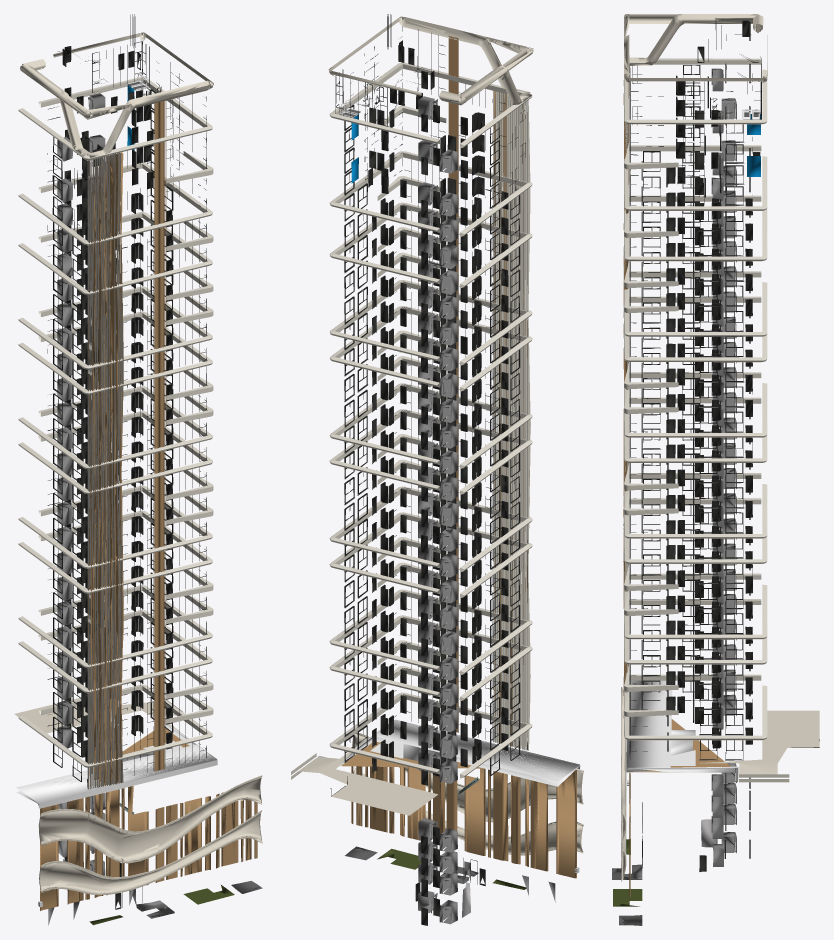
File: fachada-02.glb
3 renders of one model, left to right at view 1: azimuth 30°, elevation 25°; view 2: azimuth 150°, elevation 25°; view 3: azimuth 270°, elevation 25°, orthographic. The views are drawn at different scales.
Size of the model in its own units: 30.23 by 112 by 24.22.
